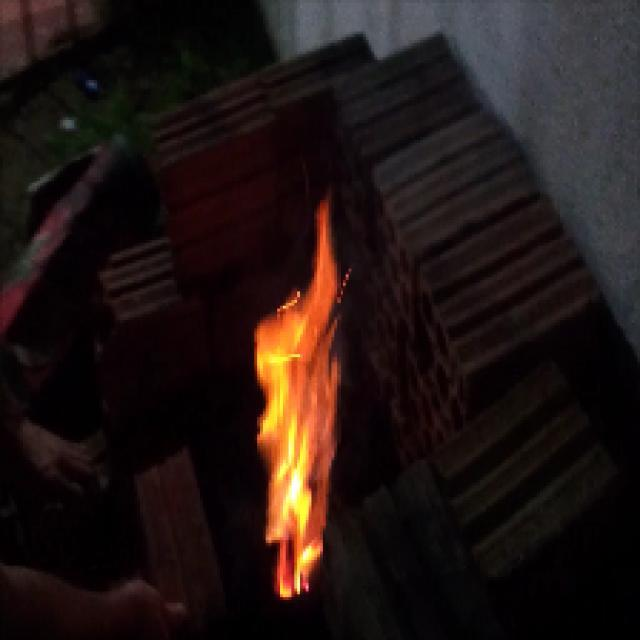Fire: (230, 193, 352, 612)
